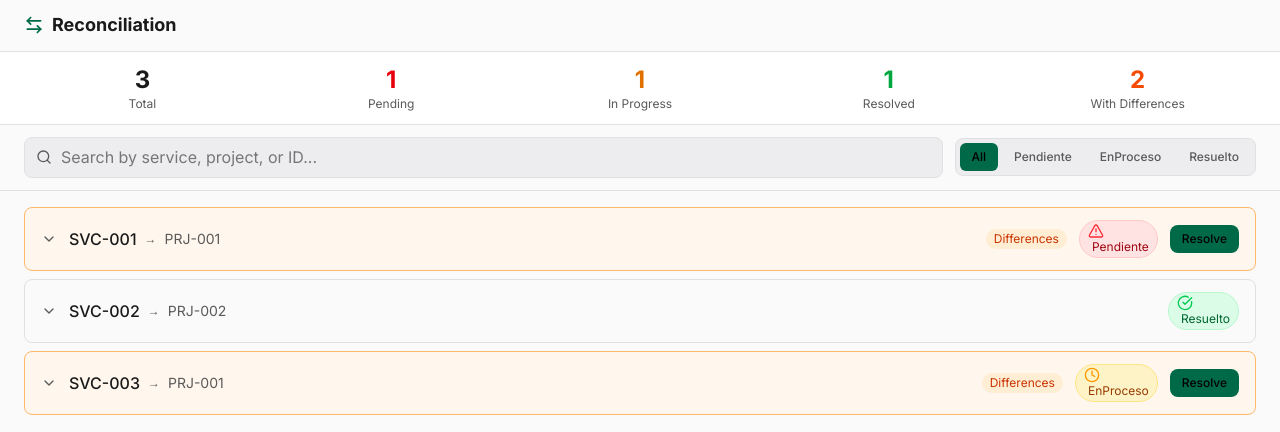
ReconciliationScreen › status filter shows only matching status
The image size is (1280, 432).
Expected: the button "SVC-001" is shown, x1=69 y1=227 x2=136 y2=251
Click the button "Pendiente" at (1043, 157), box x1=1002 y1=143 x2=1084 y2=171
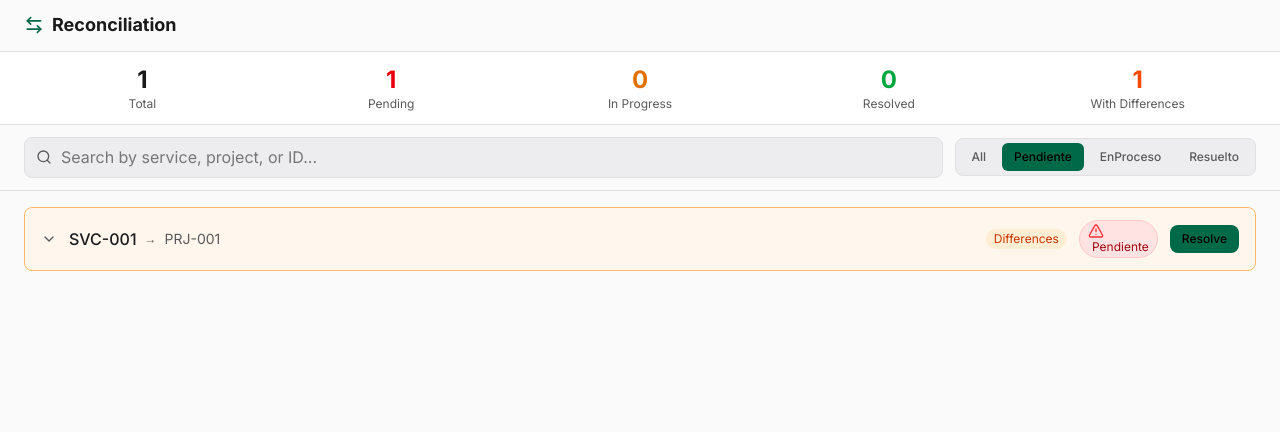
Expected: the button "SVC-001" is shown, x1=69 y1=227 x2=136 y2=251
Result: the button "SVC-002" is gone
